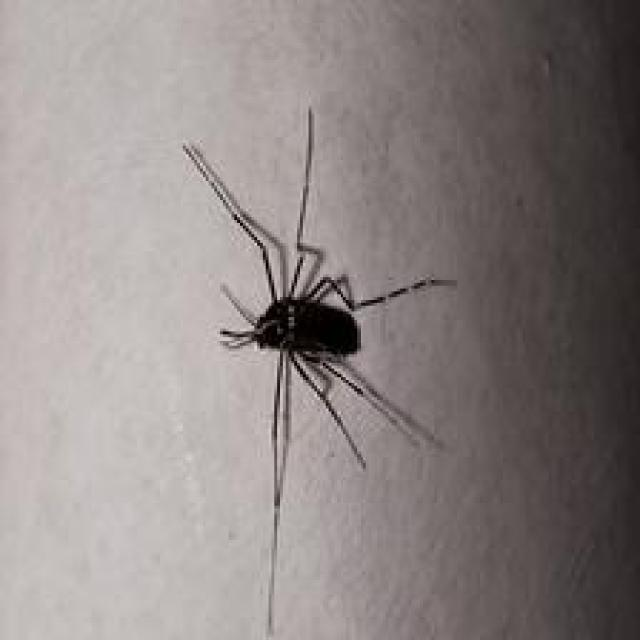Aedes albopictus: (178, 103, 458, 637)
